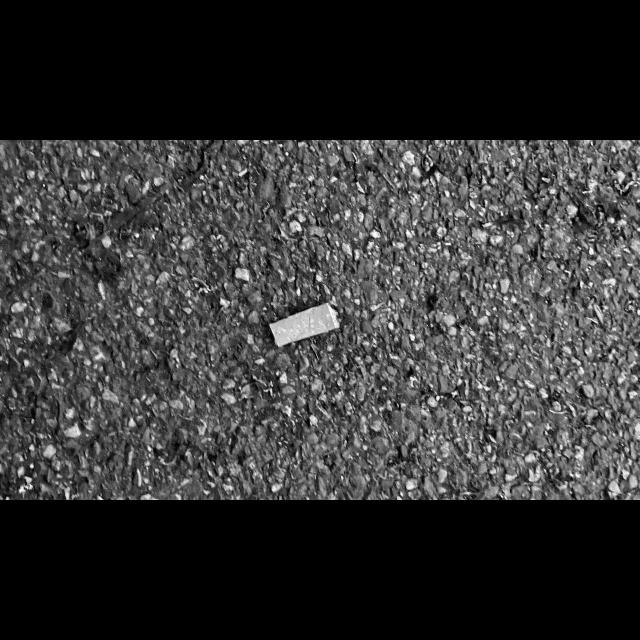cigarette: (268, 303, 341, 348)
